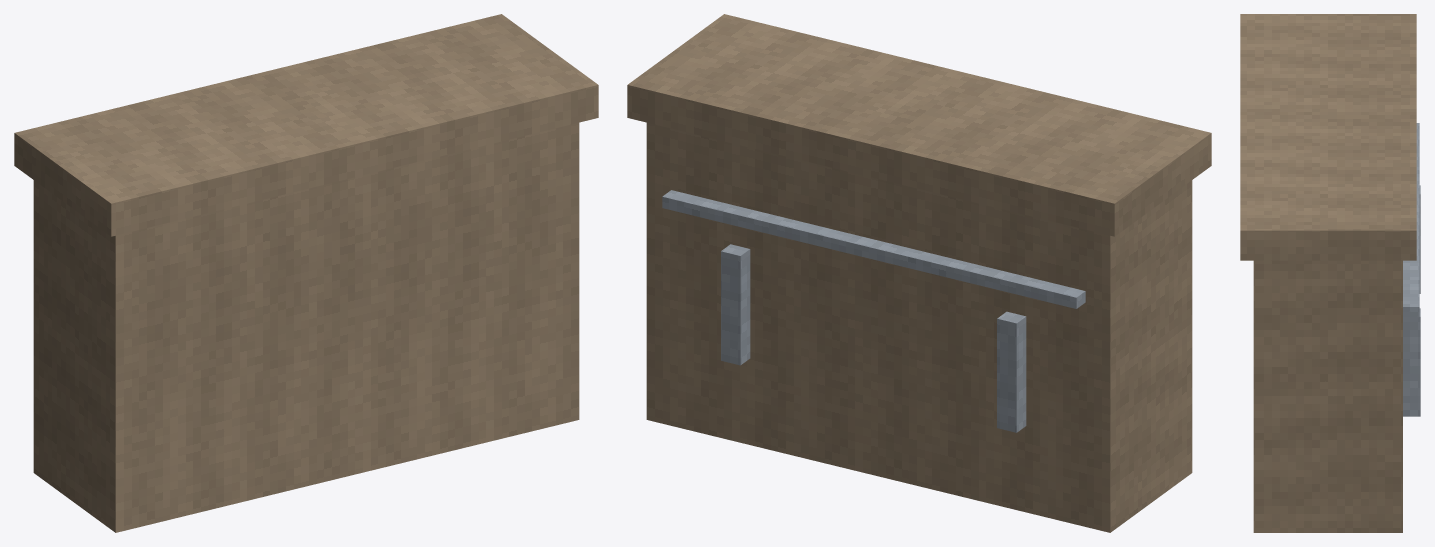
Rendered from level_blockout_quartermaster_counter.glb.
3 renders of one model, left to right at view 1: azimuth 30°, elevation 25°; view 2: azimuth 150°, elevation 25°; view 3: azimuth 270°, elevation 25°, orthographic. The views are drawn at different scales.
Visible parts, largest first — view 1: level_blockout_quartermaster_counter; view 2: level_blockout_quartermaster_counter; view 3: level_blockout_quartermaster_counter.
Part boxes in pixels (<box>): level_blockout_quartermaster_counter: <box>14,14,598,532</box>; level_blockout_quartermaster_counter: <box>627,14,1211,532</box>; level_blockout_quartermaster_counter: <box>1240,14,1420,532</box>.
Bounding box in the file's own units: 2.47 × 1.63 × 0.87.
Materials: 2 (2 with a texture image).
